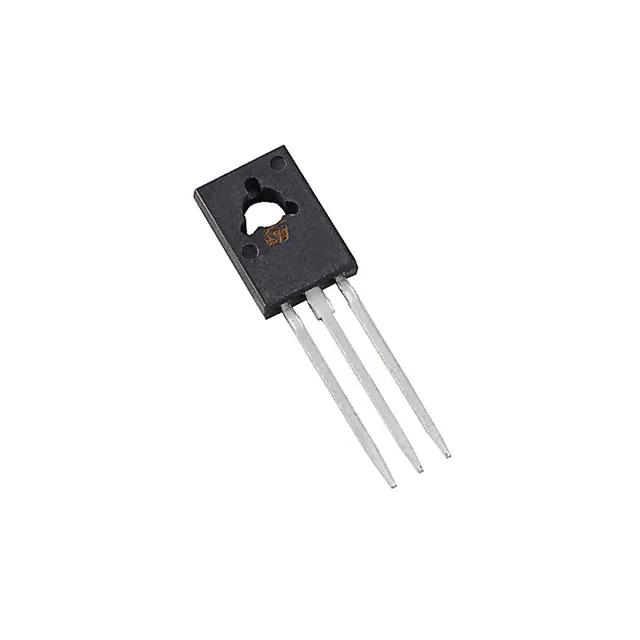Transistor: (193, 146, 448, 488)
